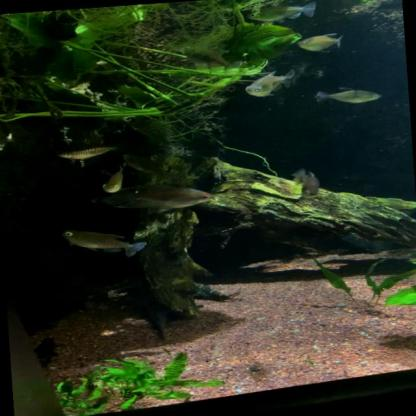fish: (89, 180, 218, 219), (57, 221, 150, 263), (245, 1, 319, 26), (244, 68, 300, 99), (312, 85, 382, 107), (57, 143, 119, 164), (32, 336, 66, 370), (296, 32, 346, 55), (290, 168, 321, 198), (101, 165, 125, 194)
